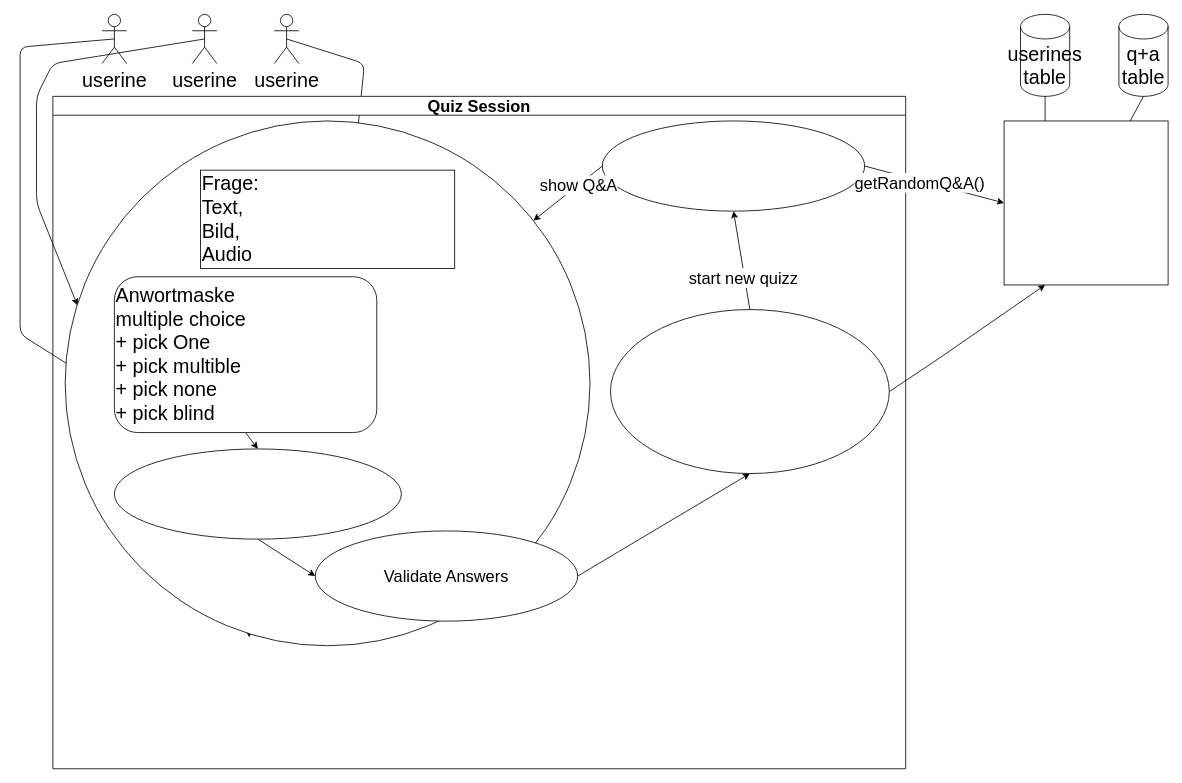
This 1182x783 diagram has some shape labels left out. Here are the shapes that lost their labels. From the top down, the centre of each, then its label:
point 733,165: Start Session
point 1085,202: Backend +get Random Q&A() ->qa +applyChanges()
point 749,391: Apply Changes to userines to present result clear GUI
point 257,493: All Session Userines picked an Answer
